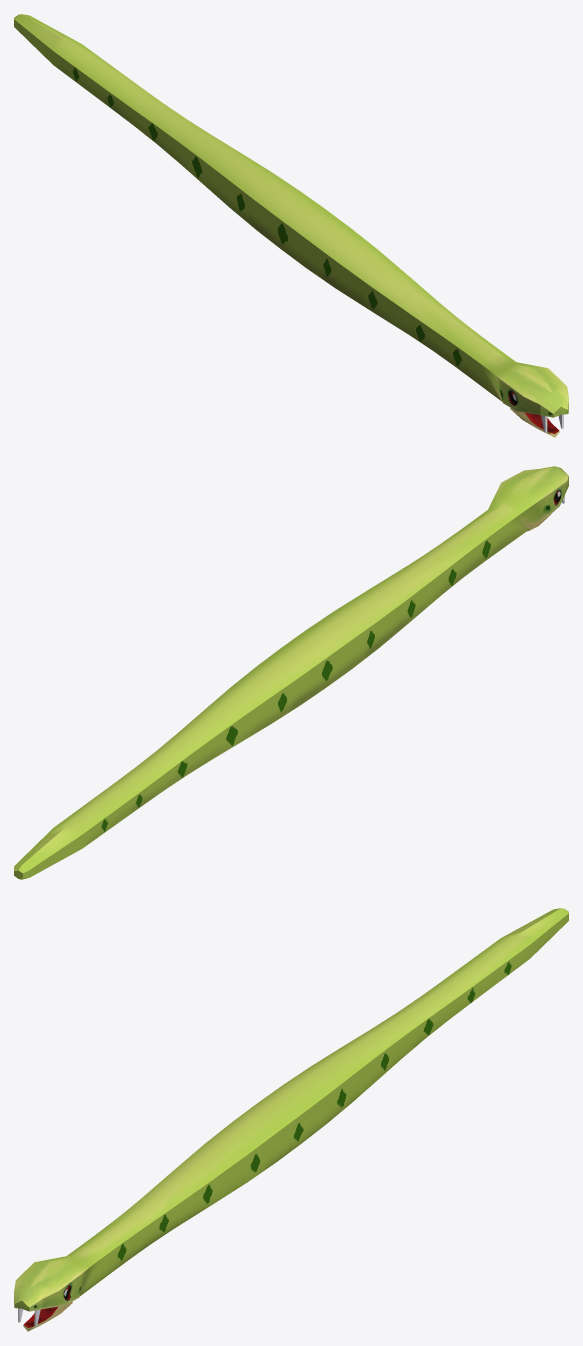
File: snake_full.fbx
3 views of the same model, one above another, from view 1: azimuth 30°, elevation 25°; view 2: azimuth 150°, elevation 25°; view 3: azimuth 330°, elevation 25° (orthographic).
Visible parts, largest first — view 1: pCube1.001; view 2: pCube1.001; view 3: pCube1.001.
Boxes of the visible parts, x1=… form: pCube1.001: x1=14, y1=14, x2=568, y2=437; pCube1.001: x1=14, y1=466, x2=568, y2=879; pCube1.001: x1=14, y1=908, x2=568, y2=1331.
Bounding box in the file's own units: 2.28 × 2.33 × 45.1.
